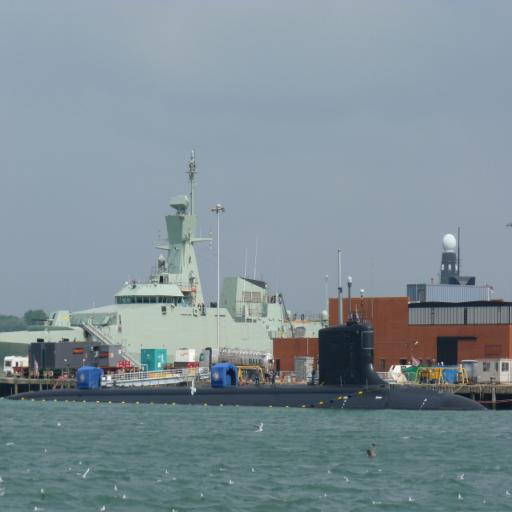submarine: (14, 311, 507, 402)
